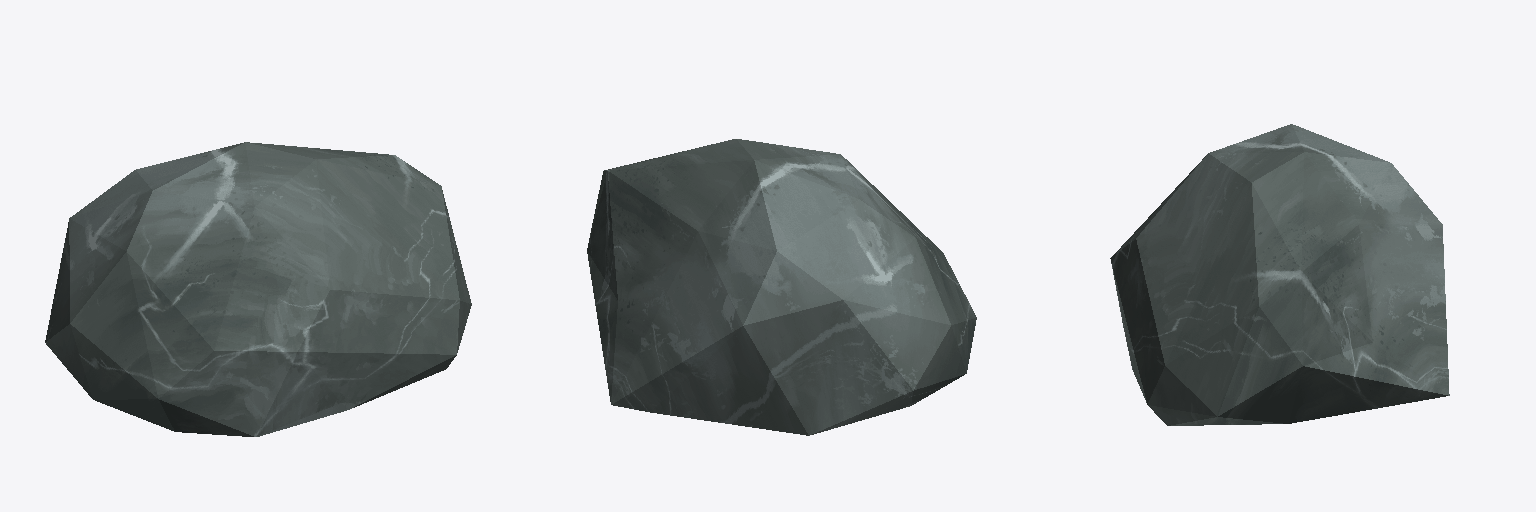
3 views of the same model, side by side, from view 1: azimuth 30°, elevation 25°; view 2: azimuth 150°, elevation 25°; view 3: azimuth 270°, elevation 25° (orthographic).
Parts seen in each view (by area): view 1: rock.009; view 2: rock.009; view 3: rock.009.
Boxes of the visible parts, x1=… form: rock.009: x1=45, y1=142, x2=471, y2=436; rock.009: x1=587, y1=139, x2=976, y2=435; rock.009: x1=1110, y1=124, x2=1449, y2=425.
Bounding box in the file's own units: 17.42 × 9.43 × 13.85.
1 materials, 1 textured.